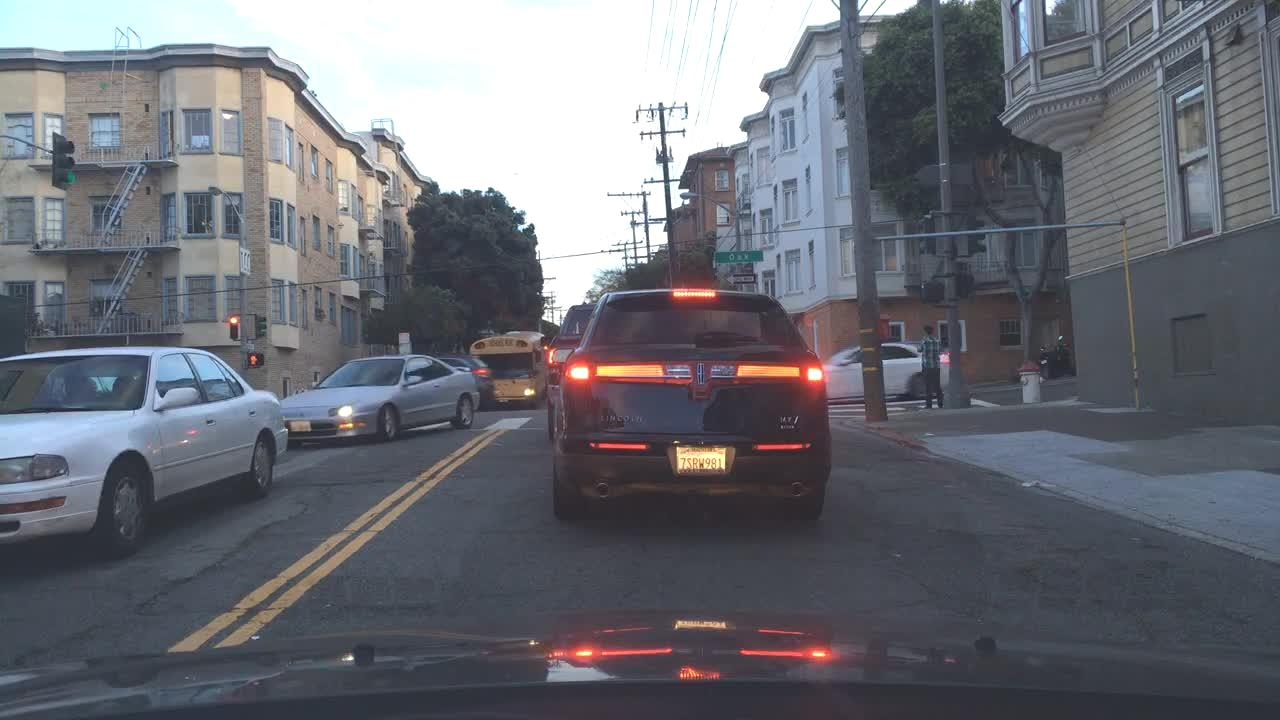lincoln: (692, 357, 710, 391)
